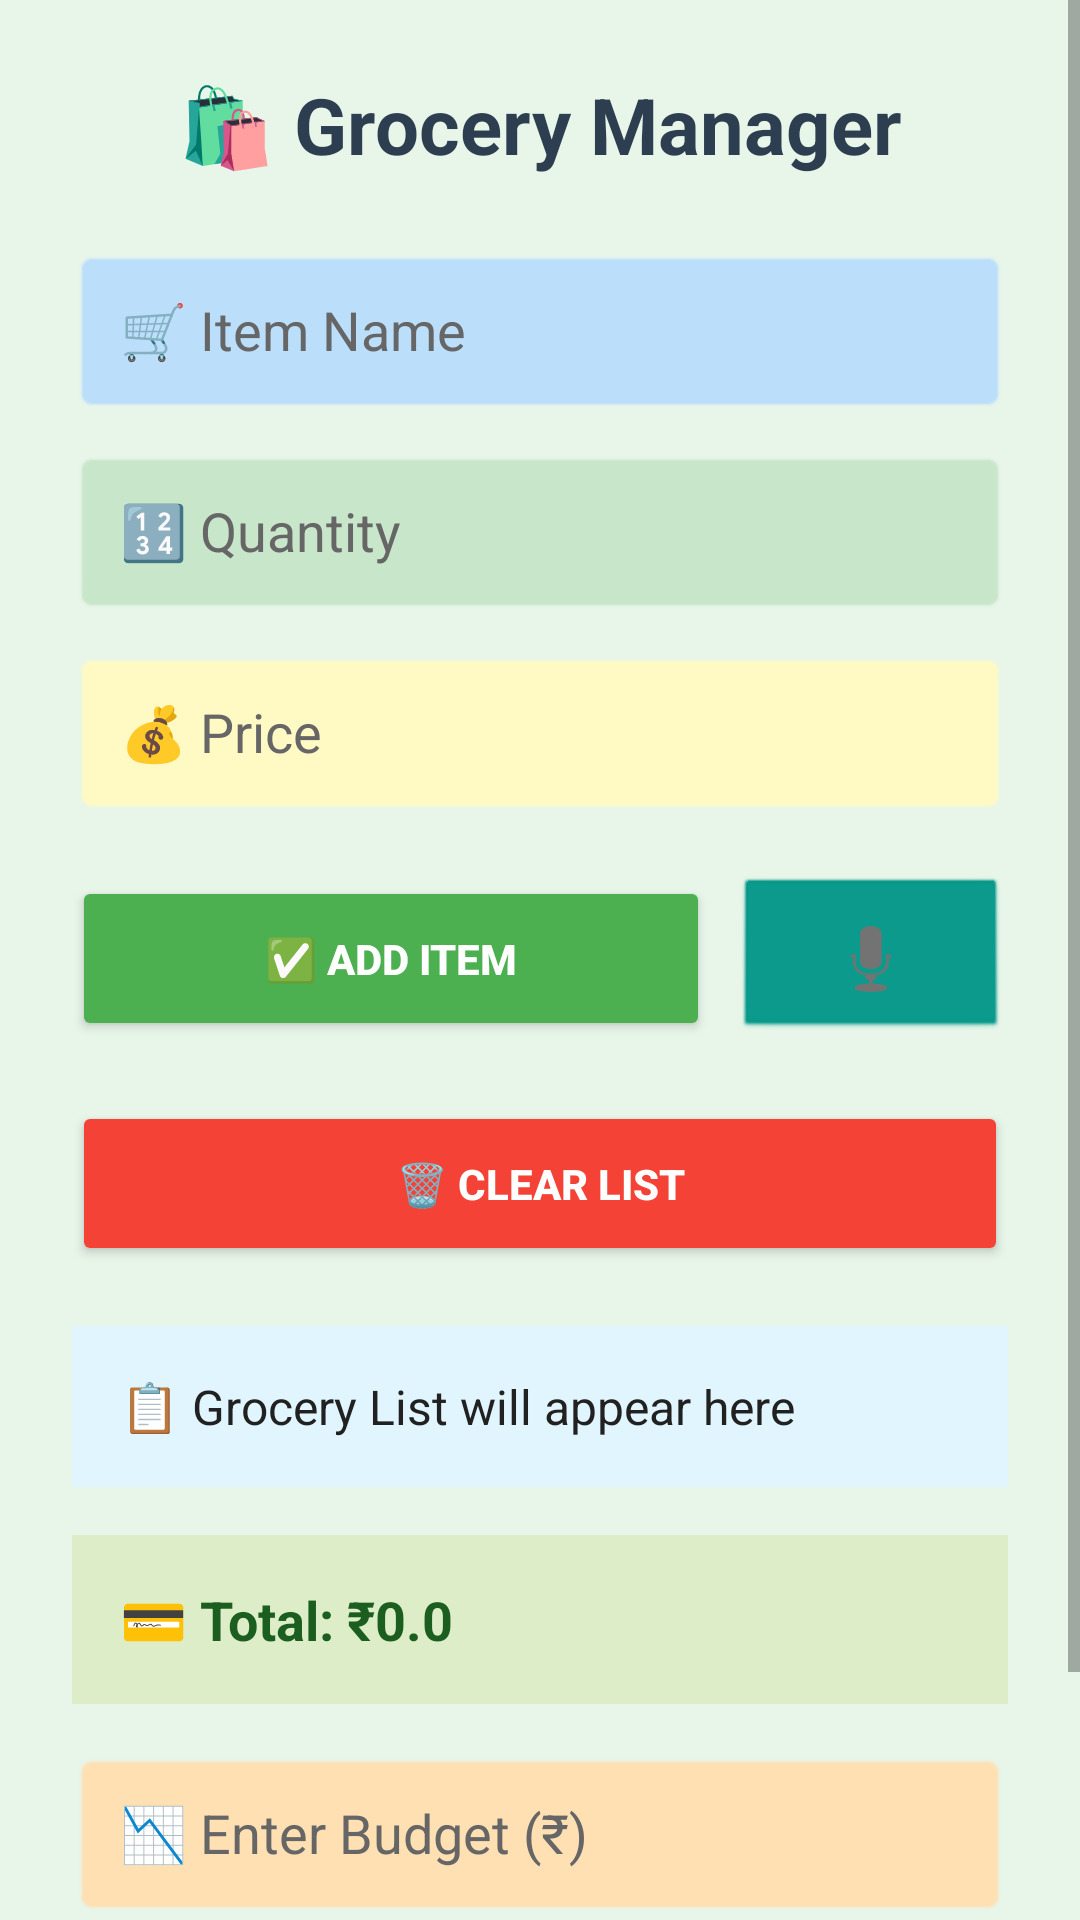

Icon click points for this 1080 x 1920 phone screenshot, format (x=x, y=y):
Voice input: (x=871, y=953)
